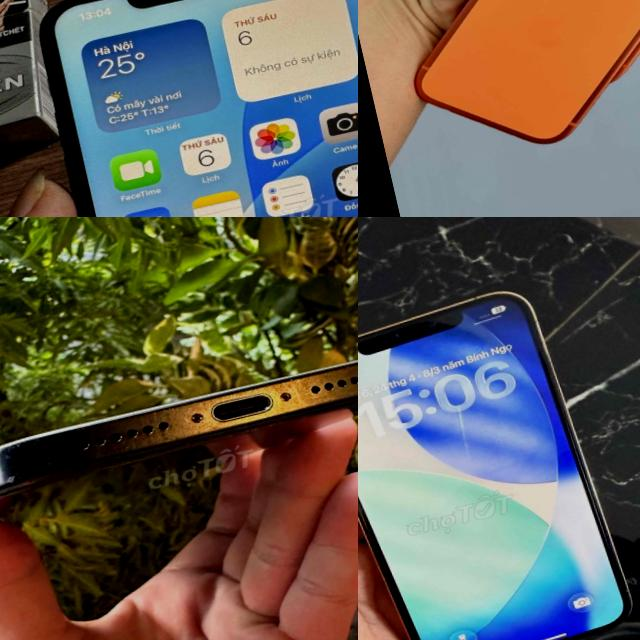gen_11: (30, 0, 358, 217)
gen_12_13: (358, 274, 639, 640)
gen_16: (0, 360, 358, 498)
gen_17: (422, 0, 640, 138)
scratch: (0, 420, 99, 536), (152, 388, 198, 437), (314, 359, 335, 386), (278, 366, 296, 392), (118, 438, 138, 460), (349, 359, 358, 383)
